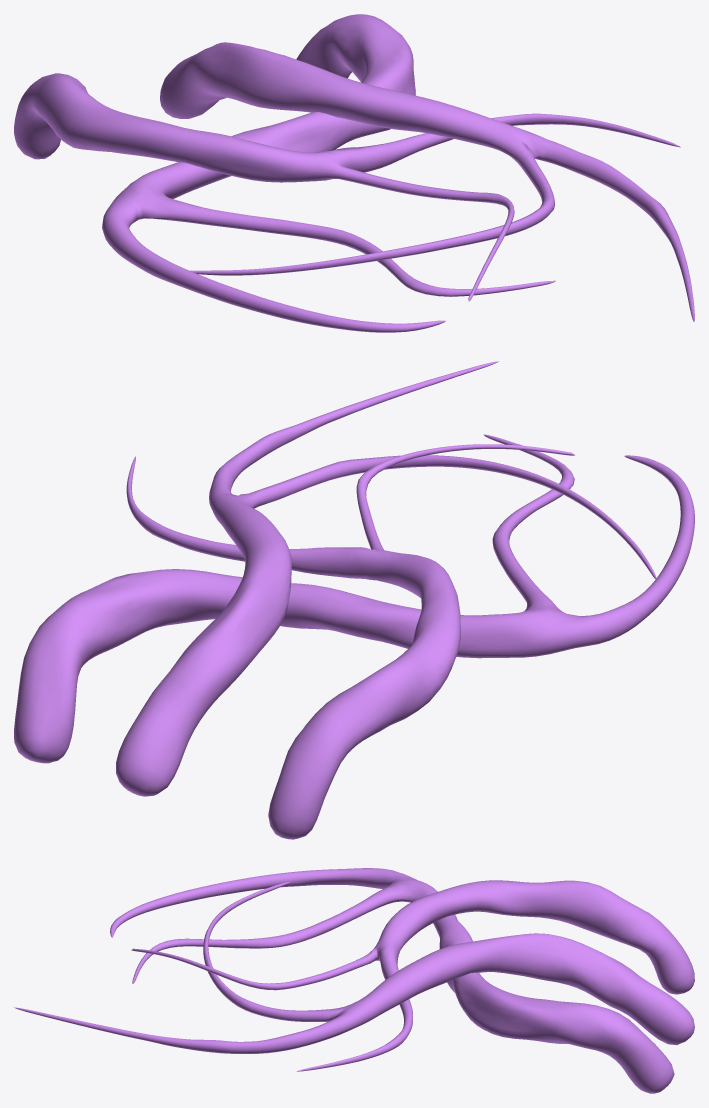
File: branch02.fbx
3 views of the same model, one above another, from view 1: azimuth 30°, elevation 25°; view 2: azimuth 150°, elevation 25°; view 3: azimuth 270°, elevation 25° (orthographic). The views are drawn at different scales.
Parts seen in each view (by area): view 1: branch06; view 2: branch06; view 3: branch06.
Part boxes in pixels (box(x1,y1,x2,y2)): branch06: box(14, 14, 694, 332); branch06: box(14, 361, 694, 839); branch06: box(14, 868, 694, 1093).
Size of the model in its own units: 0.4394 by 0.1144 by 0.6373.
